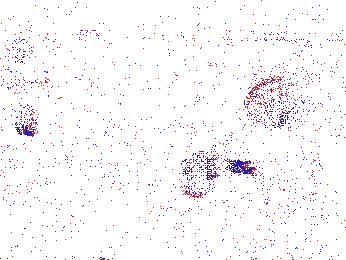flame jellyfish: (168, 142, 258, 197), (1, 48, 52, 137), (244, 76, 308, 139)
